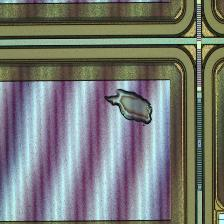COATING BAD: (101, 86, 157, 130)
